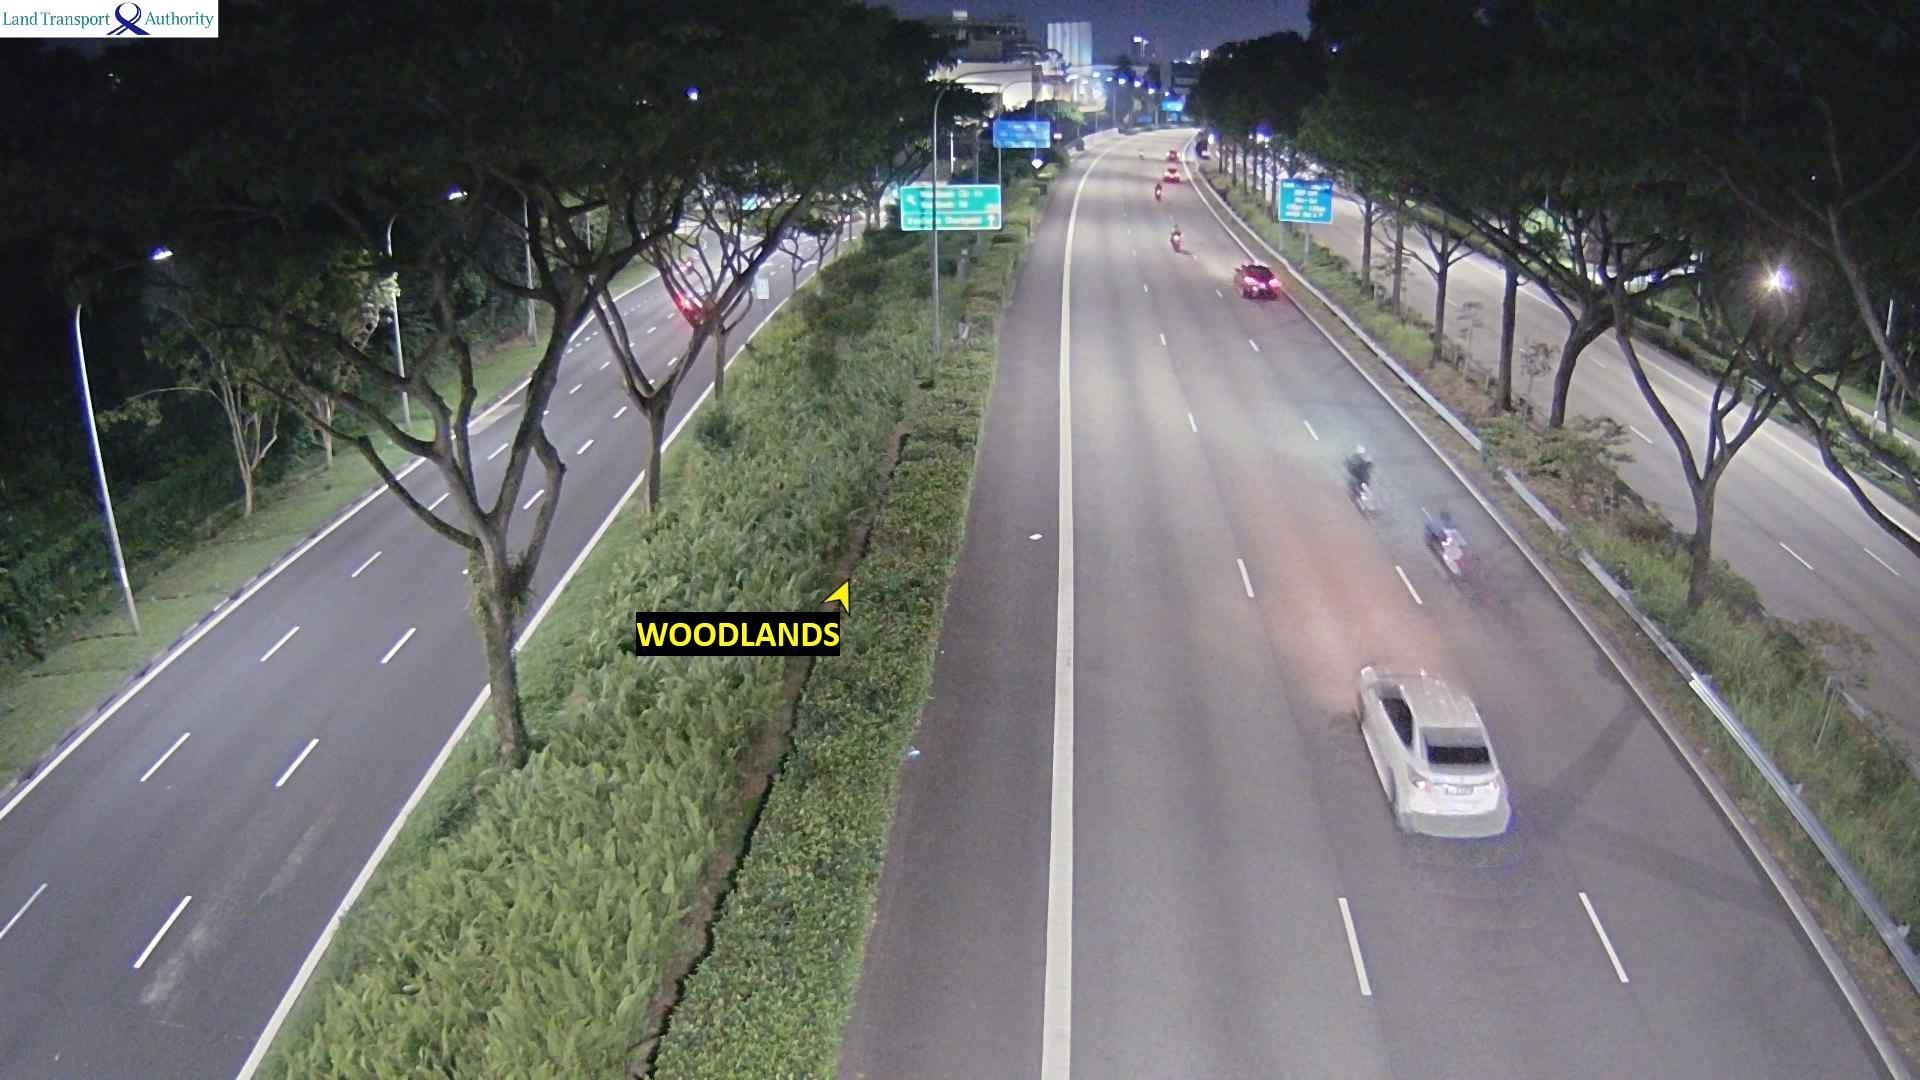cars: (1352, 662, 1512, 839), (662, 271, 725, 322), (1233, 261, 1281, 299), (1162, 146, 1190, 166), (1163, 165, 1181, 182)
motorcycle: (1418, 504, 1470, 583), (1343, 464, 1376, 518), (1170, 227, 1183, 252), (1152, 182, 1166, 204), (1135, 144, 1149, 166)
